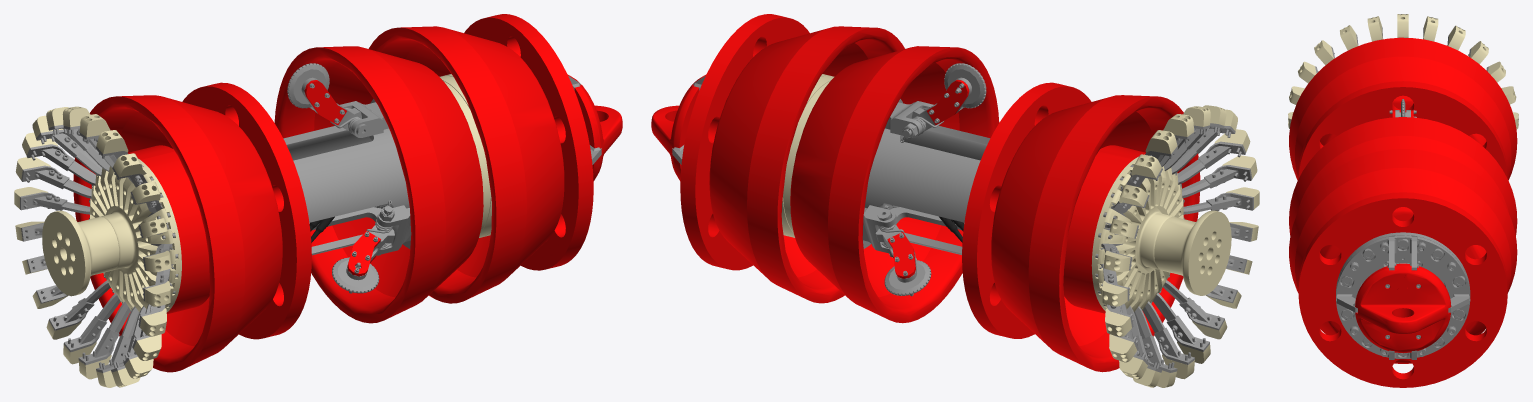
File: Caliper.glb
3 views of the same model, side by side, from view 1: azimuth 30°, elevation 25°; view 2: azimuth 150°, elevation 25°; view 3: azimuth 270°, elevation 25° (orthographic). The views are drawn at different scales.
Visible parts, largest first — view 1: Caliper Pig.674; view 2: Caliper Pig.674; view 3: Caliper Pig.674.
Boxes of the visible parts, x1,y1,x2,y2 form: Caliper Pig.674: (14, 14, 622, 387); Caliper Pig.674: (651, 14, 1259, 387); Caliper Pig.674: (1288, 14, 1518, 387).
Size of the model in its own units: 11.81 by 5.27 by 5.26.
